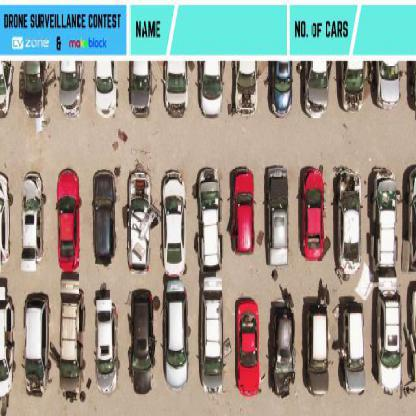car: (58, 279, 84, 401), (370, 165, 399, 274), (375, 278, 402, 393), (198, 277, 224, 396), (335, 167, 363, 276), (194, 168, 223, 270), (53, 166, 80, 272), (160, 172, 187, 277), (228, 166, 258, 260), (297, 166, 326, 263), (127, 164, 153, 272), (163, 282, 189, 390), (128, 292, 154, 396), (268, 302, 295, 398), (263, 167, 289, 266), (235, 298, 261, 396), (92, 174, 120, 262), (24, 294, 47, 398), (19, 172, 43, 271), (303, 306, 329, 397), (94, 300, 119, 394), (341, 305, 365, 395), (163, 61, 190, 118), (303, 60, 330, 115), (199, 61, 225, 118), (267, 61, 293, 118), (20, 62, 46, 116), (1, 286, 13, 401), (339, 61, 366, 112), (59, 60, 84, 115), (94, 61, 119, 116), (374, 62, 401, 111), (129, 61, 153, 116), (233, 63, 257, 118), (0, 170, 12, 264), (0, 62, 11, 121), (2, 286, 4, 287)
